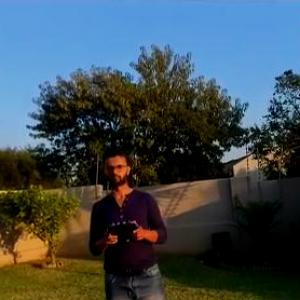follow: (80, 141, 171, 299)
